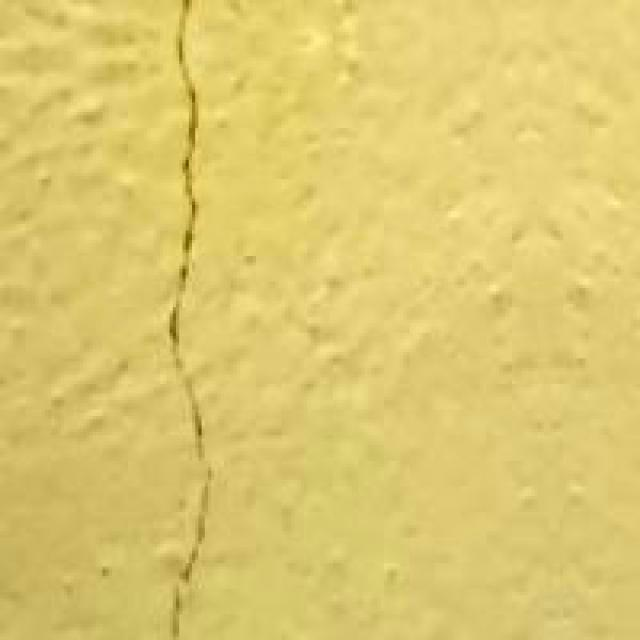SurfaceCrack: (128, 0, 246, 640)
